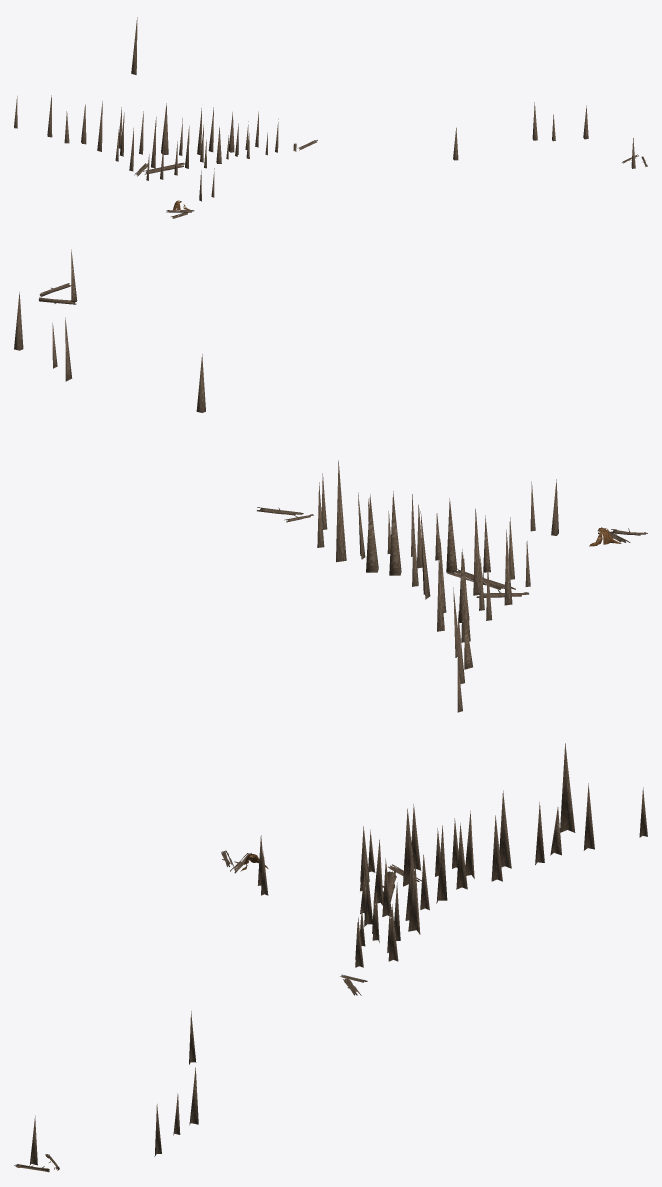
Rendered from wujian13_1.fbx.
3 renders of one model, top to bottom at view 1: azimuth 30°, elevation 25°; view 2: azimuth 150°, elevation 25°; view 3: azimuth 270°, elevation 25°, orthographic. The views are drawn at different scales.
Visible parts, largest first — view 1: wujian13_1; view 2: wujian13_1; view 3: wujian13_1.
Part boxes in pixels (<box>): wujian13_1: <box>14,17,647,218</box>; wujian13_1: <box>14,249,647,712</box>; wujian13_1: <box>14,743,647,1172</box>.
Size of the model in its own units: 7501 by 1794 by 5943.
